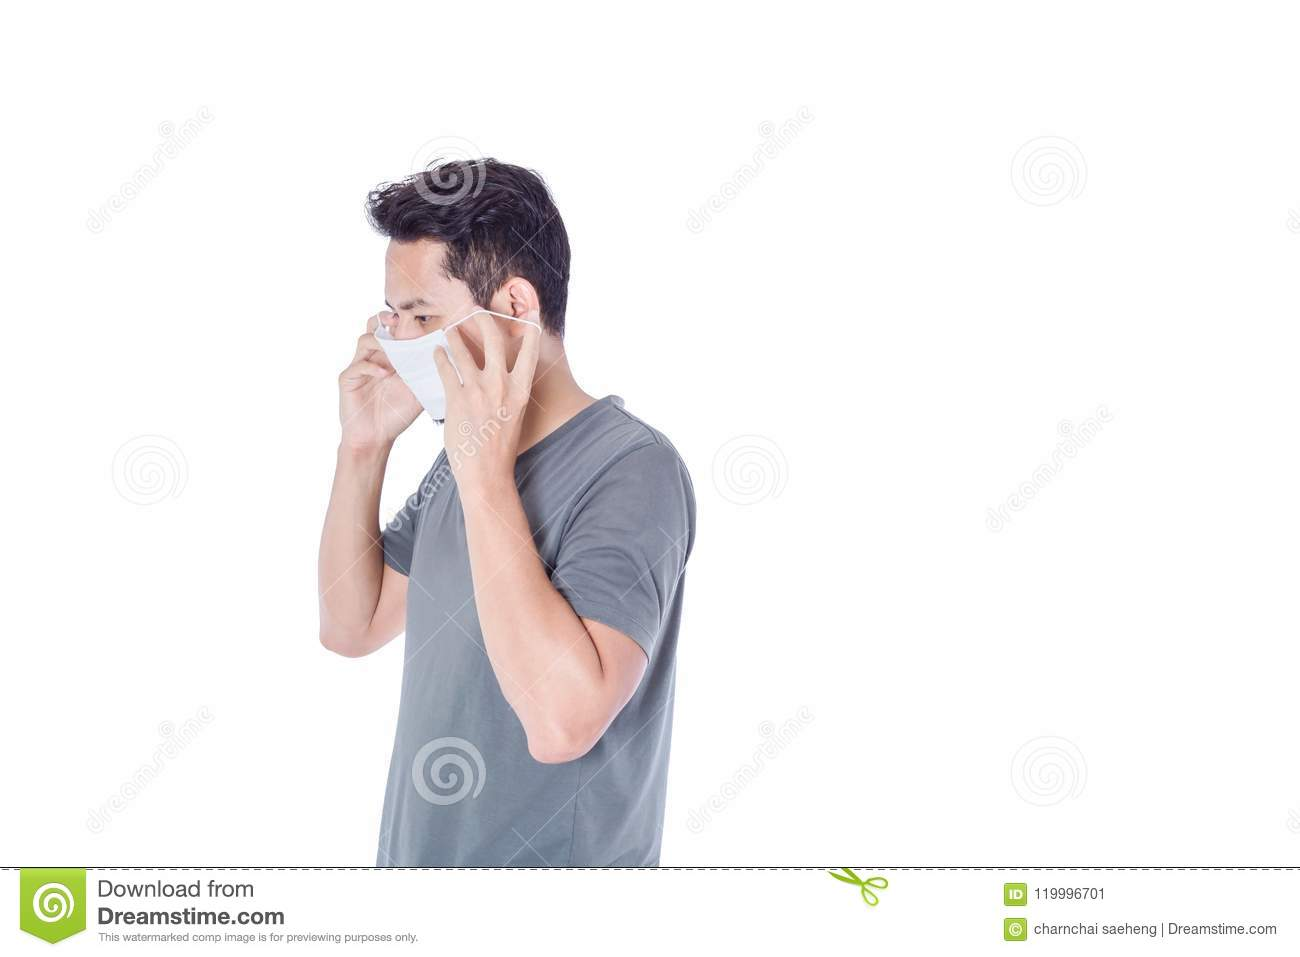mask: (373, 323, 476, 428)
